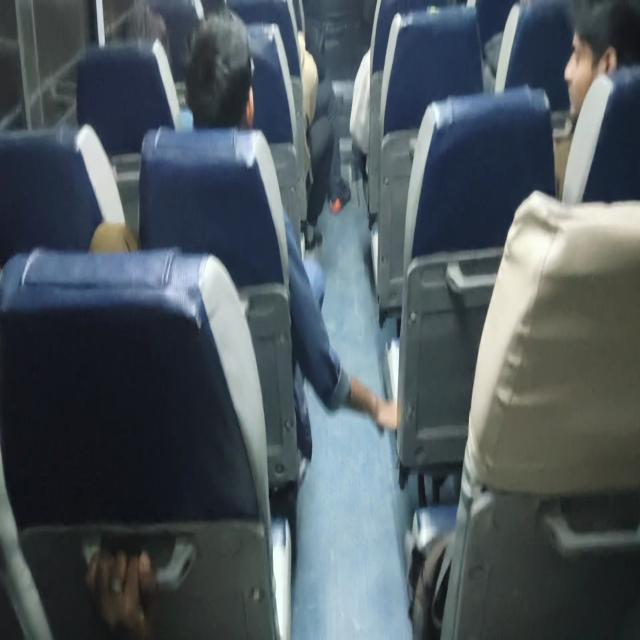person: (548, 0, 640, 106), (198, 32, 250, 143), (112, 0, 173, 69)
